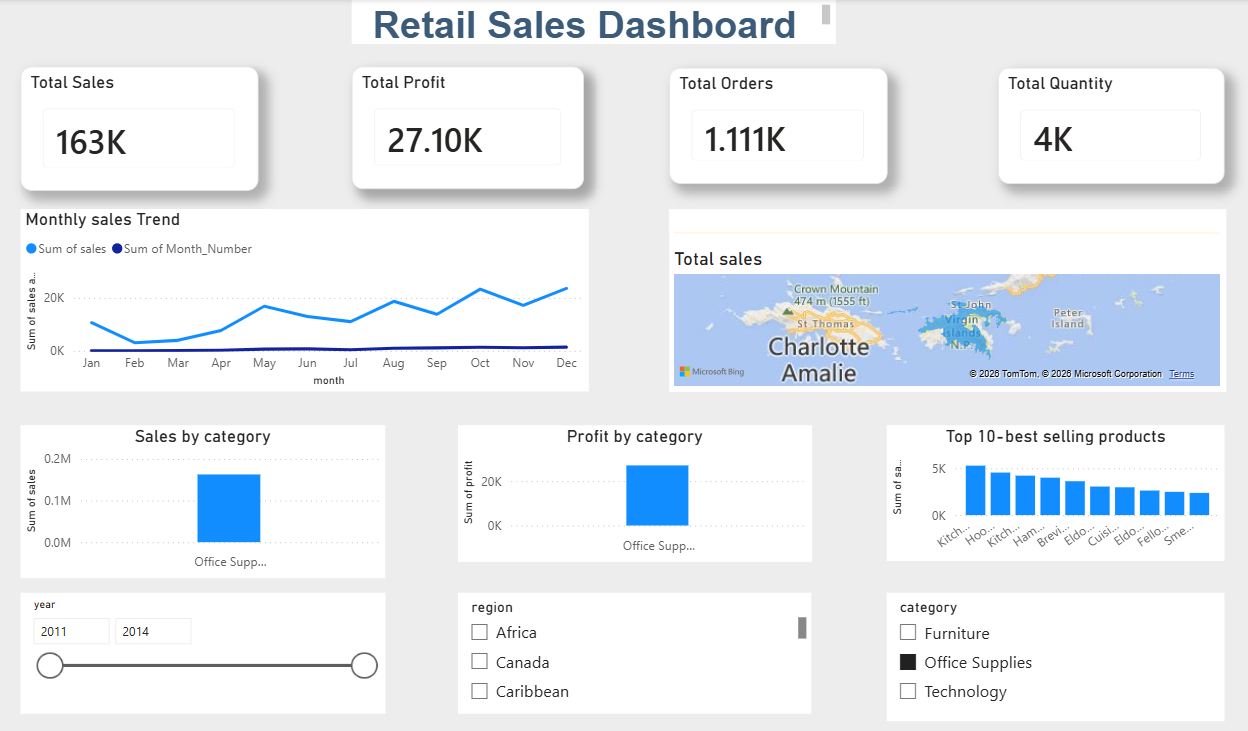

Layout of this report page (visuals, bound fields, positions):
{"tool":"powerbi","page":{"name":"Page 1","canvas":[1280,720],"ordinal":0},"visuals":[{"type":"cardVisual","title":"Total Sales","fields":{"Data":["Sum(Retail_cleaned_sales xlsx.sales)"]},"box":[71.2,66.2,232.5,121.2],"z":0},{"type":"textbox","box":[395,0,473.2,44],"z":1000},{"type":"cardVisual","title":"Total Profit","fields":{"Data":["Sum(Retail_cleaned_sales xlsx.profit)"]},"box":[395,66.2,227.5,120],"z":2000},{"type":"cardVisual","title":"Total Orders","fields":{"Data":["CountNonNull(Retail_cleaned_sales xlsx.order_id)"]},"box":[705,67.5,213.8,113.8],"z":3000},{"type":"cardVisual","title":"Total Quantity","fields":{"Data":["Sum(Retail_cleaned_sales xlsx.quantity)"]},"box":[1027.5,67.5,221.2,113.8],"z":4000},{"type":"lineChart","title":"Monthly sales Trend","fields":{"Category":["Retail_cleaned_sales xlsx.month"],"Y":["Sum(Retail_cleaned_sales xlsx.sales)","Sum(Retail_cleaned_sales xlsx.Month_Number)"]},"box":[71.2,205,556.2,178.8],"z":5000},{"type":"columnChart","title":"Profit by category","fields":{"Category":["Retail_cleaned_sales xlsx.category"],"Y":["Sum(Retail_cleaned_sales xlsx.profit)"]},"box":[498.9,417,346.1,133.3],"z":6000},{"type":"columnChart","title":"Top 10-best selling products","fields":{"Category":["Retail_cleaned_sales xlsx.product_name"],"Y":["Sum(Retail_cleaned_sales xlsx.sales)"]},"box":[918,417.2,330.7,133.1],"z":7000},{"type":"slicer","fields":{"Values":["Retail_cleaned_sales xlsx.year"]},"box":[70.9,580.8,357.1,117.4],"z":8000},{"type":"slicer","fields":{"Values":["Retail_cleaned_sales xlsx.region"]},"box":[499.5,580.4,345.8,118],"z":9000},{"type":"slicer","fields":{"Values":["Retail_cleaned_sales xlsx.category"]},"box":[918.3,580.8,330.2,126],"z":10000},{"type":"clusteredColumnChart","title":"Sales by category","fields":{"Category":["Retail_cleaned_sales xlsx.category"],"Y":["Sum(Retail_cleaned_sales xlsx.sales)"]},"box":[71.4,417.2,356.8,149.6],"z":11000},{"type":"filledMap","title":"Total sales","fields":{"Category":["Retail_cleaned_sales xlsx.region"]},"box":[705,205,543.8,178.8],"z":12000},{"type":"shape","box":[705.6,205.4,542.9,23.2],"z":13000}]}

Visuals, with their boxes on the page's 1280x720 design canvas (x1, y1, x2, y2). These are canvas units, not pixel positions in the 1248x731 screenshot, which may show the page scaled, cropped or inside an application window:
"Total Sales" cardVisual: select_region(71, 66, 304, 187)
textbox: select_region(395, 0, 868, 44)
"Total Profit" cardVisual: select_region(395, 66, 622, 186)
"Total Orders" cardVisual: select_region(705, 68, 919, 181)
"Total Quantity" cardVisual: select_region(1028, 68, 1249, 181)
"Monthly sales Trend" lineChart: select_region(71, 205, 627, 384)
"Profit by category" columnChart: select_region(499, 417, 845, 550)
"Top 10-best selling products" columnChart: select_region(918, 417, 1249, 550)
slicer - Retail_cleaned_sales xlsx.year: select_region(71, 581, 428, 698)
slicer - Retail_cleaned_sales xlsx.region: select_region(500, 580, 845, 698)
slicer - Retail_cleaned_sales xlsx.category: select_region(918, 581, 1248, 707)
"Sales by category" clusteredColumnChart: select_region(71, 417, 428, 567)
"Total sales" filledMap: select_region(705, 205, 1249, 384)
shape: select_region(706, 205, 1248, 229)
